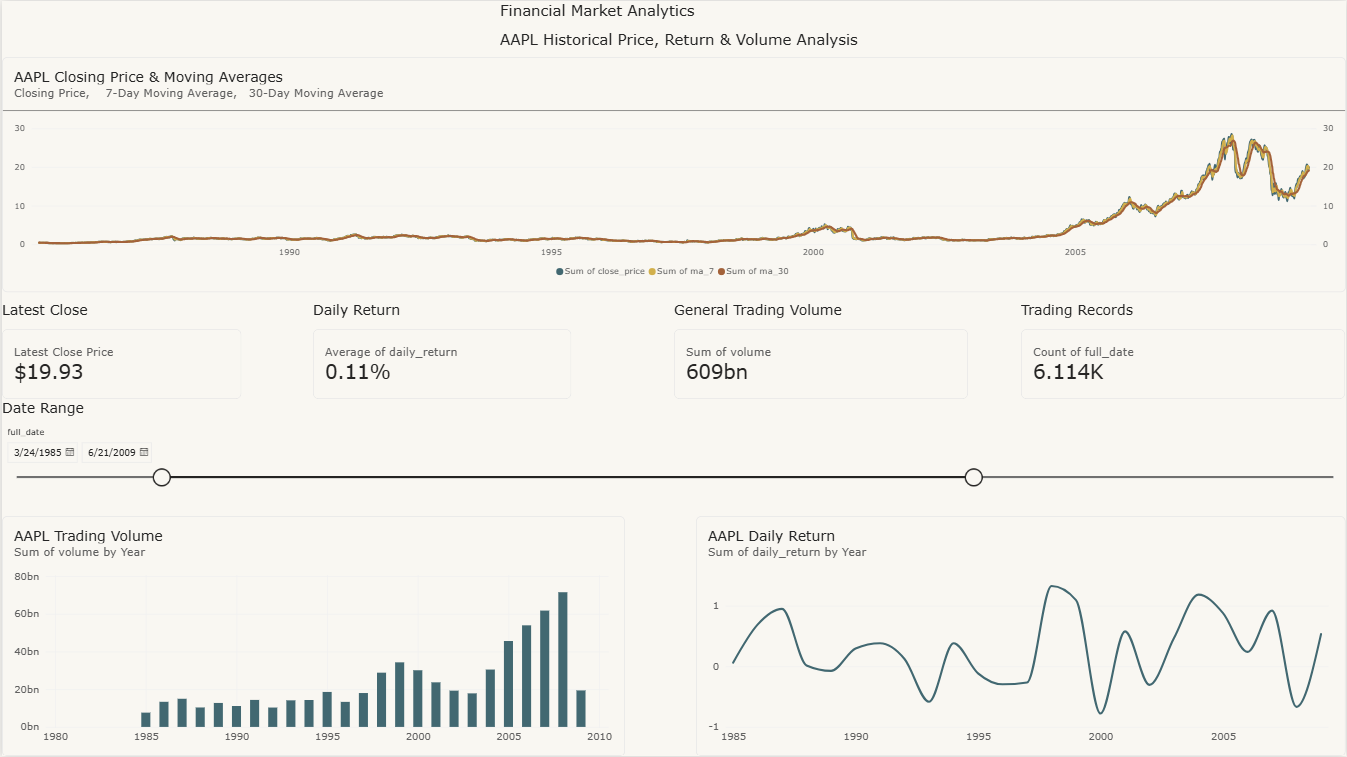

This screenshot's page, from the dashboard's own definition file:
{"tool":"powerbi","page":{"name":"Page 1","canvas":[1920,1080],"ordinal":0},"visuals":[{"type":"lineChart","title":"AAPL Closing Price & Moving Averages ","fields":{"Category":["public vw_market_prices.full_date"],"Y":["Sum(public vw_market_prices.close_price)"],"Y2":["Sum(public vw_market_prices.ma_7)","Sum(public vw_market_prices.ma_30)"]},"box":[0,80.2,1920,335.6],"z":0},{"type":"cardVisual","title":"Trading Records","fields":{"Data":["Count(public vw_market_prices.full_date)"]},"box":[1456,428.9,464,140.1],"z":1000},{"type":"cardVisual","title":"Daily Return","fields":{"Data":["Avg(public vw_market_prices.daily_return)"]},"box":[445,428.9,369.1,140.1],"z":2000},{"type":"cardVisual","title":"General Trading Volume","fields":{"Data":["Sum(public vw_market_prices.volume)"]},"box":[960,428.9,420.2,140.1],"z":3000},{"type":"cardVisual","title":"Latest Close","fields":{"Data":["public vw_market_prices.Latest Close Price"]},"box":[0,428.9,342.9,140.1],"z":4000},{"type":"slicer","title":"Date Range","fields":{"Values":["public vw_market_prices.full_date"]},"box":[0,569,1920,138.6],"z":5000},{"type":"lineClusteredColumnComboChart","title":"AAPL Trading Volume","fields":{"Category":["public vw_market_prices.full_date.Variation.Date Hierarchy.Year","public vw_market_prices.full_date.Variation.Date Hierarchy.Quarter","public vw_market_prices.full_date.Variation.Date Hierarchy.Month","public vw_market_prices.full_date.Variation.Date Hierarchy.Day"],"Y":["Sum(public vw_market_prices.volume)"]},"box":[0,735.3,890,344.3],"z":6000},{"type":"lineChart","title":"AAPL Daily Return","fields":{"Category":["public vw_market_prices.full_date.Variation.Date Hierarchy.Year","public vw_market_prices.full_date.Variation.Date Hierarchy.Quarter","public vw_market_prices.full_date.Variation.Date Hierarchy.Month","public vw_market_prices.full_date.Variation.Date Hierarchy.Day"],"Y":["Sum(public vw_market_prices.daily_return)"]},"box":[992.1,735.3,927.9,344.3],"z":7000},{"type":"textbox","box":[770.3,0,455.2,93.4],"z":8000}]}

Visuals, with their boxes in screenshot pixels (x1, y1, x2, y2), scaled from the page's 1920x1080 canvas onto the 1347x757 screenshot:
"AAPL Closing Price & Moving Averages " lineChart: Rect(0, 56, 1346, 291)
"Trading Records" cardVisual: Rect(1021, 301, 1346, 399)
"Daily Return" cardVisual: Rect(312, 301, 571, 399)
"General Trading Volume" cardVisual: Rect(674, 301, 968, 399)
"Latest Close" cardVisual: Rect(0, 301, 241, 399)
"Date Range" slicer: Rect(0, 399, 1346, 496)
"AAPL Trading Volume" lineClusteredColumnComboChart: Rect(0, 515, 624, 756)
"AAPL Daily Return" lineChart: Rect(696, 515, 1346, 756)
textbox: Rect(540, 0, 860, 65)
